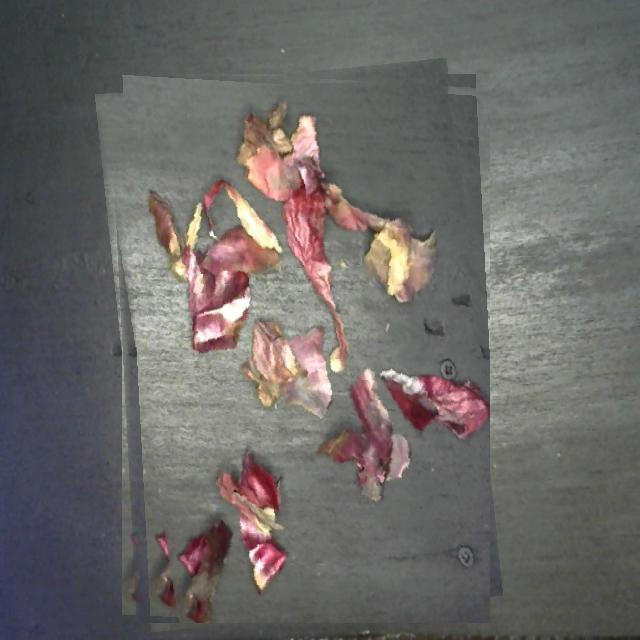biodegradable: (108, 66, 490, 623)
